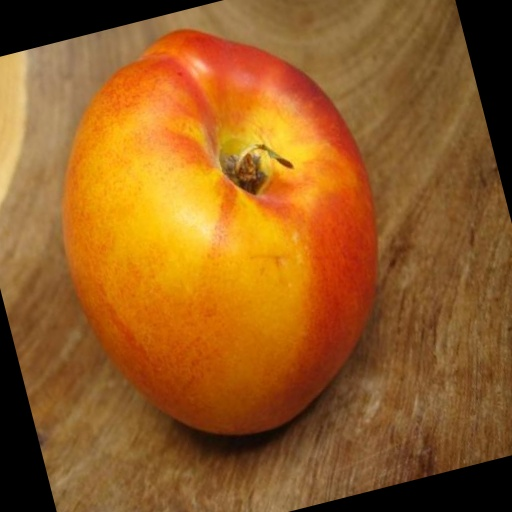fruit: (0, 138, 158, 460)
